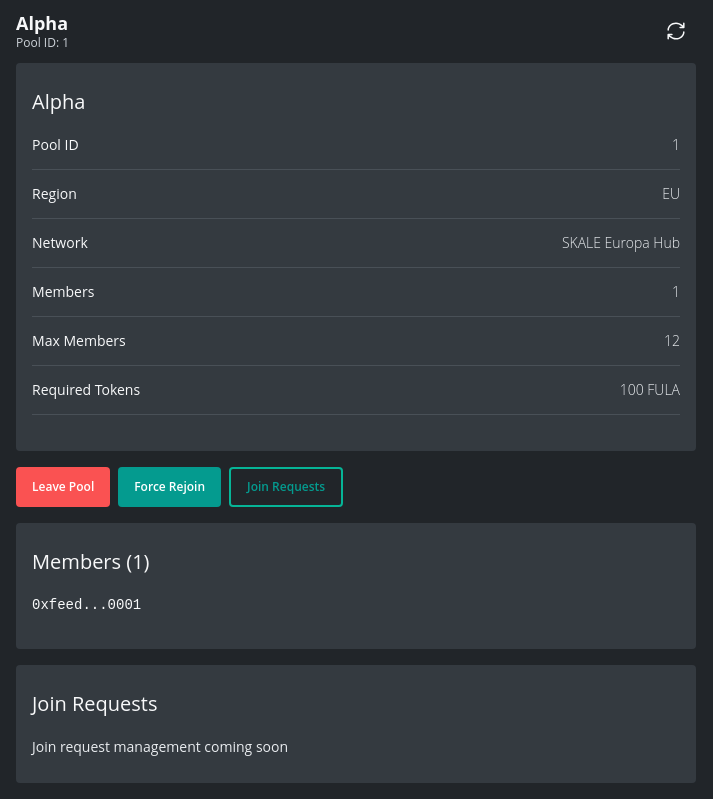
PoolDetails › leave is refused before the confirm when the Blox cluster id is unknown
Step 1. Click the button with test id "pool-details-leave" → coordinates (63, 487), box [16,467,110,507]
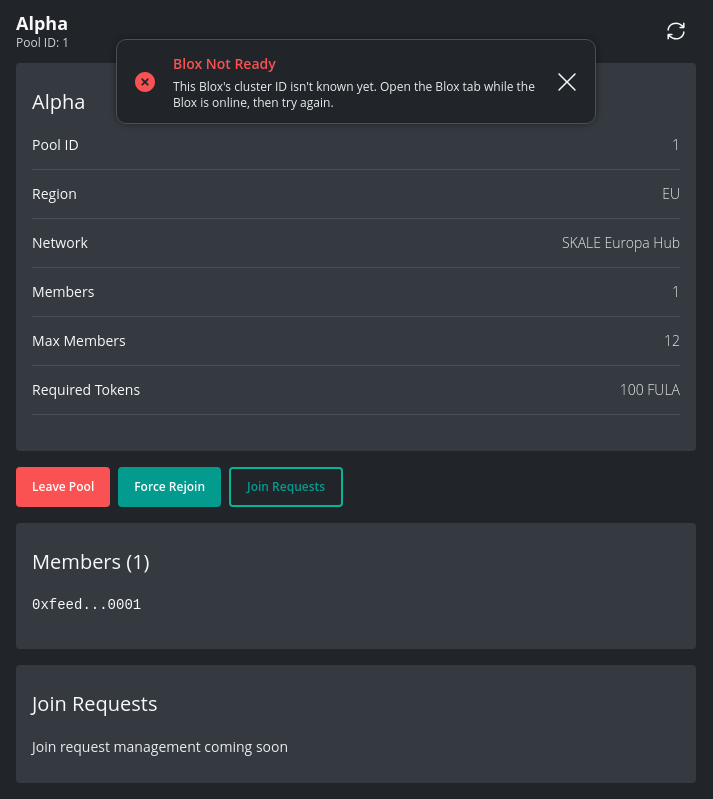
Check: the text "Blox Not Ready" is shown, box [173,52,276,76]
